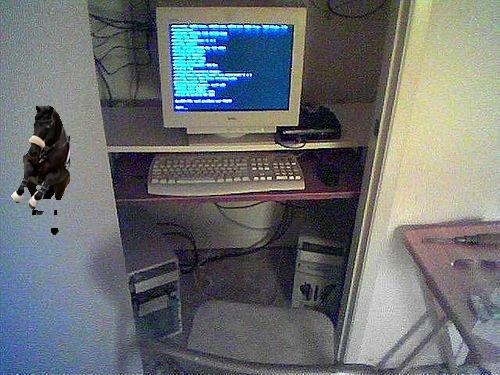tampered: (12, 106, 70, 235)
